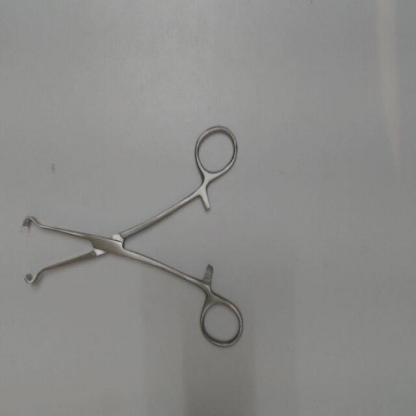Babcock Tissue Forceps: (17, 119, 246, 356)
